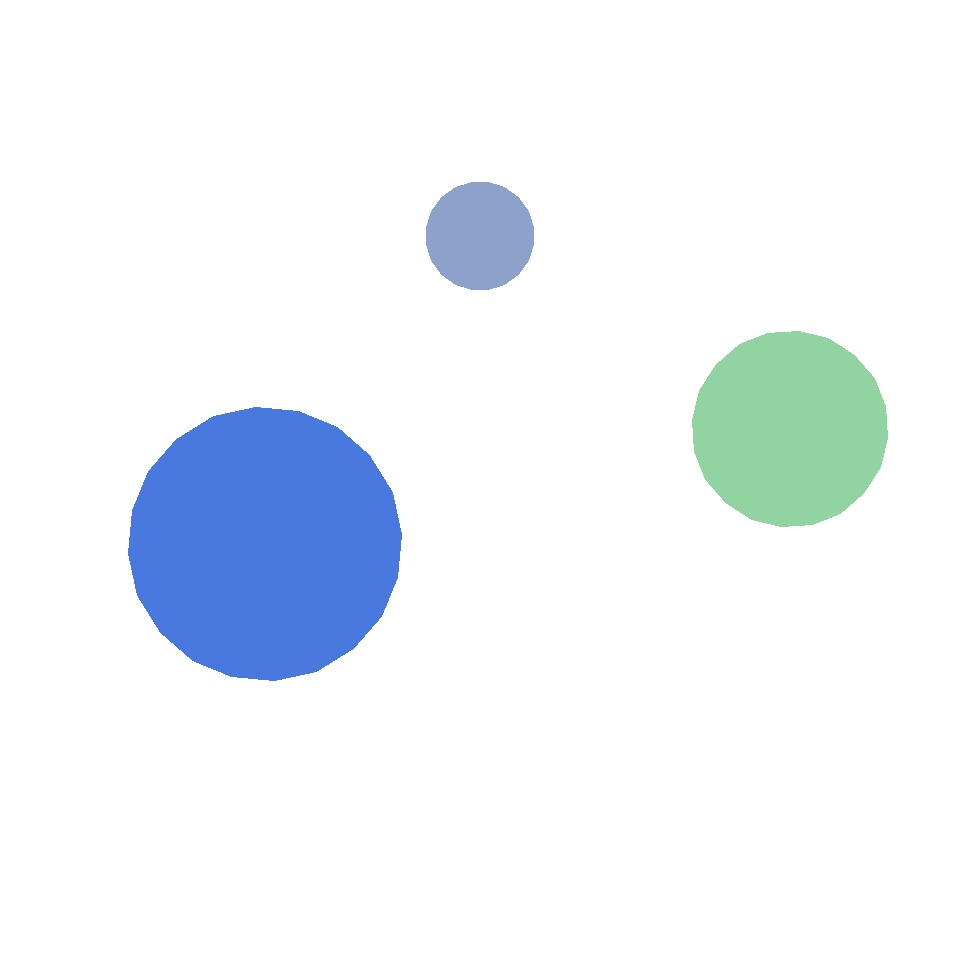square: (752, 616, 886, 750)
triangle: (129, 407, 402, 680), (86, 284, 296, 494), (692, 332, 888, 526), (47, 128, 222, 302), (426, 182, 534, 290)
